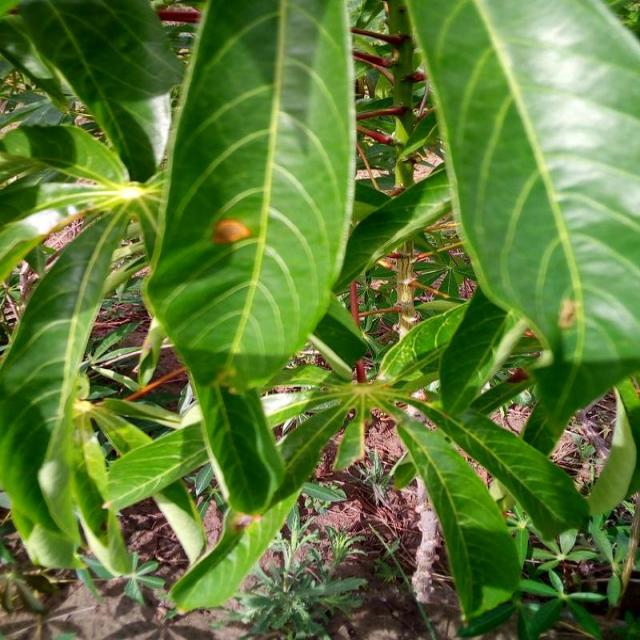cassava leaf: (1, 0, 638, 626), (142, 0, 358, 514), (403, 0, 639, 449)
